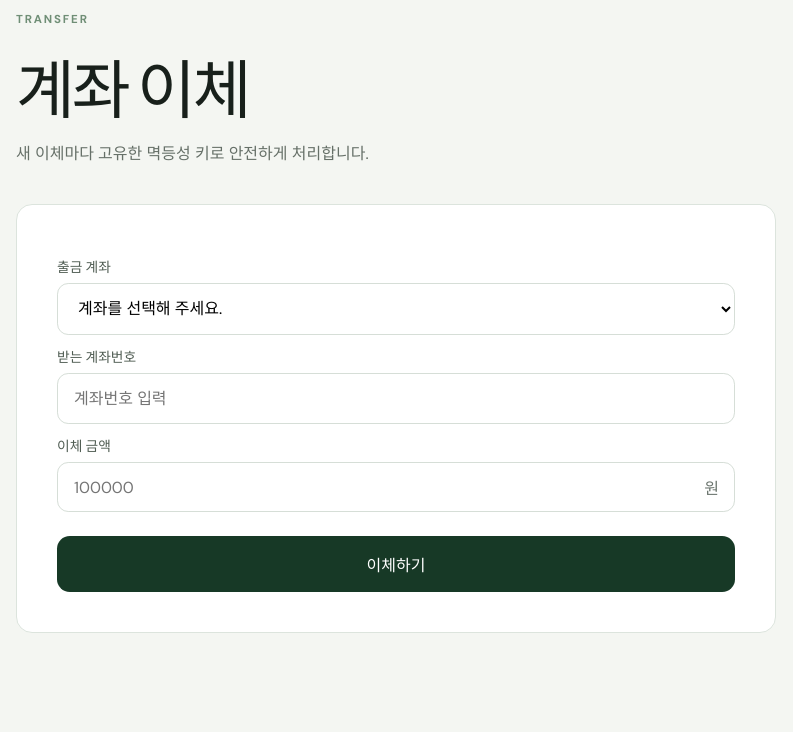
it: 이체 UI › 정상 이체 성공 결과와 금액을 표시하고 계좌 Query를 갱신한다
Select "12345678901234 · 100,000원" in the dropdown labelled "출금 계좌" at coordinates (396, 309), box [57,283,735,335]
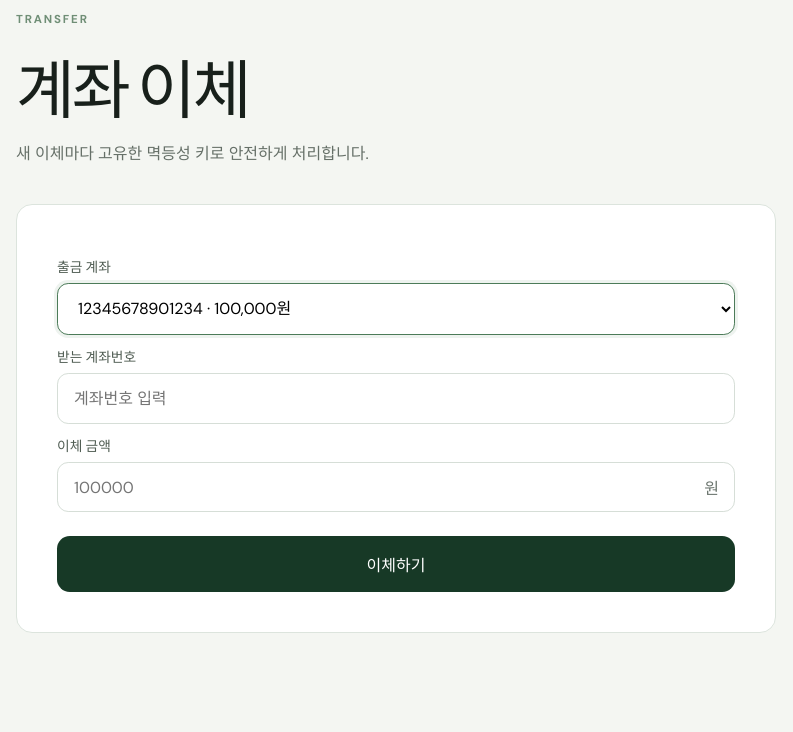
Type "99998888777766" into the field labelled "받는 계좌번호" at coordinates (396, 399), box [57,374,735,424]
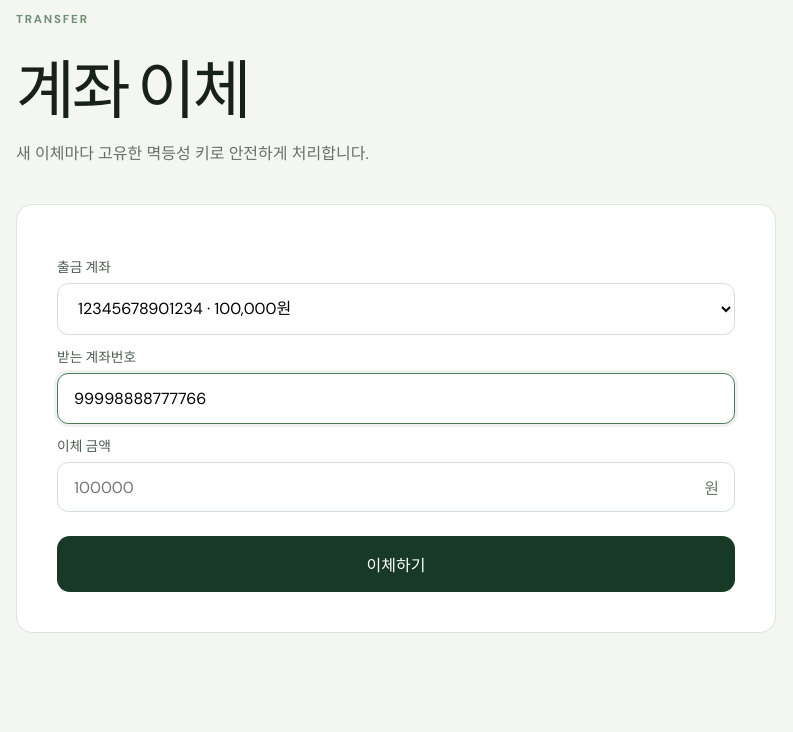
Type "30000" into the field labelled "이체 금액" at coordinates (396, 487), box [57,462,735,512]
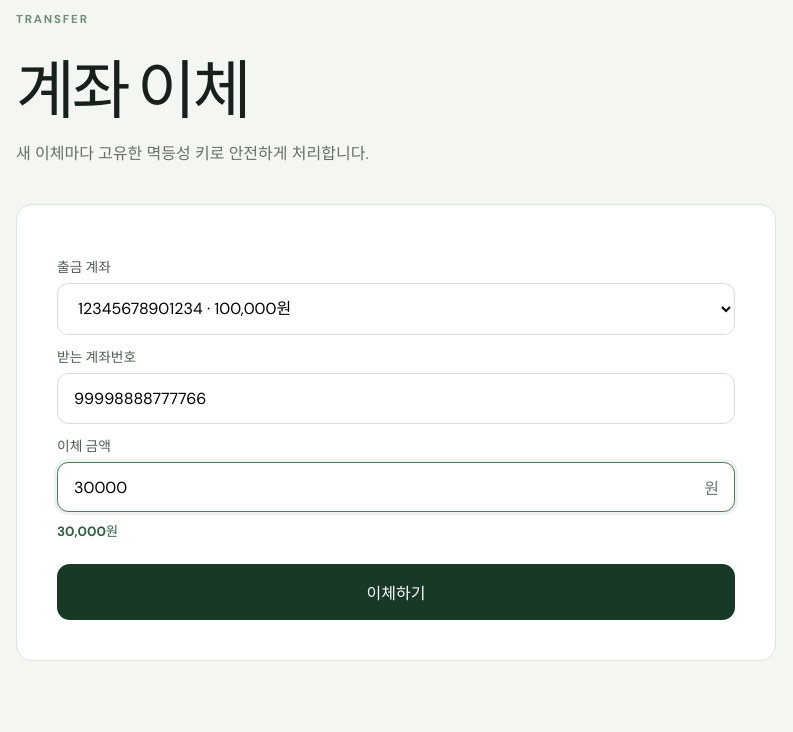
Click the button "이체하기" at coordinates (396, 592), box [57,564,735,620]
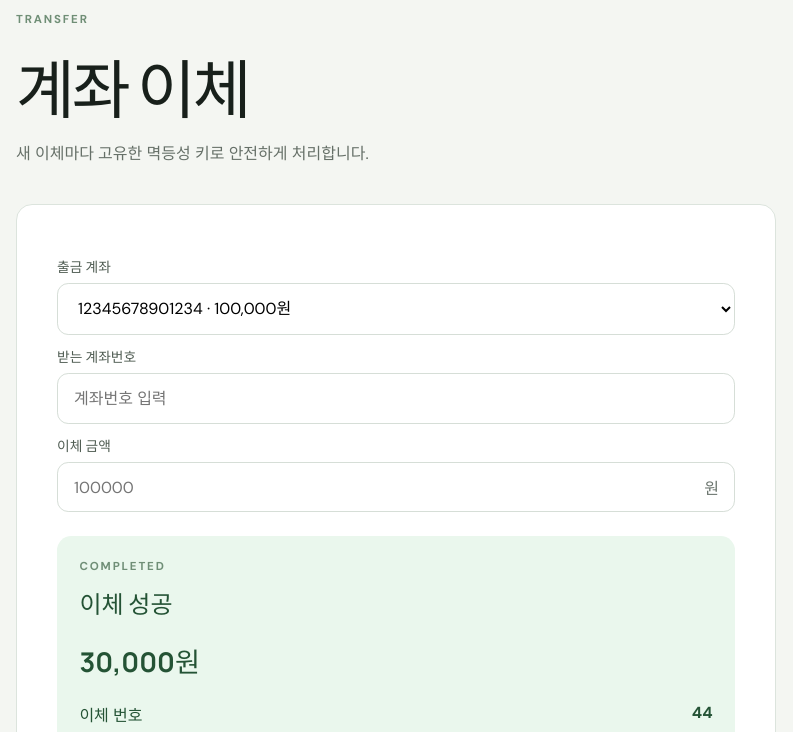
Check: the text "30,000원" is shown, box [79,643,200,680]
Check: the heading "이체 성공" is shown, box [79,587,172,620]
Check: the text "44" is shown, box [692,702,713,726]
